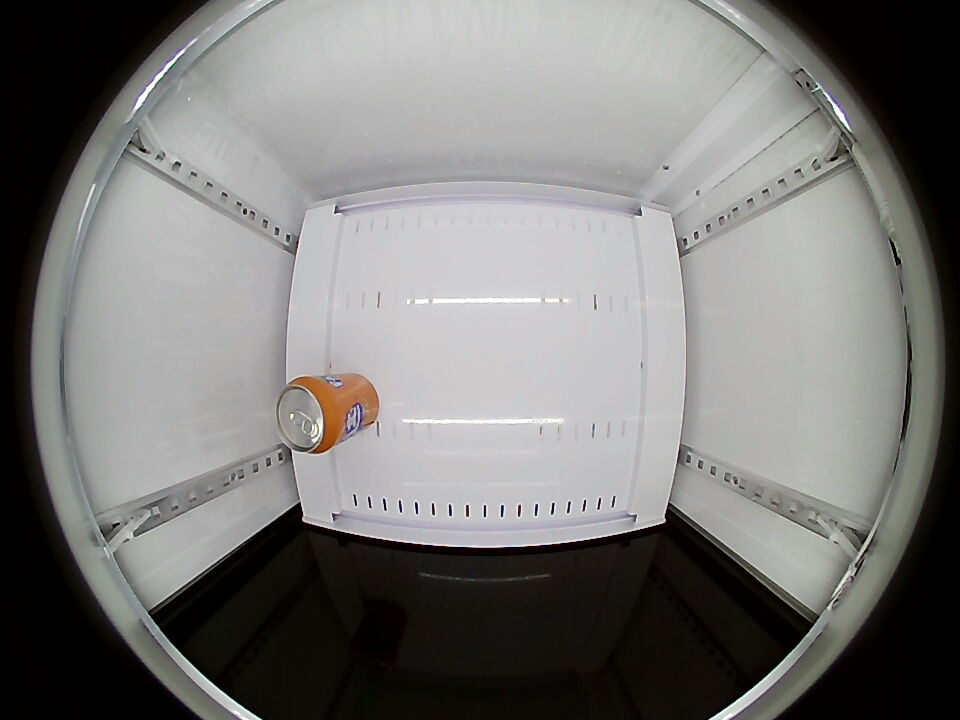fenda: (274, 376, 344, 454)
